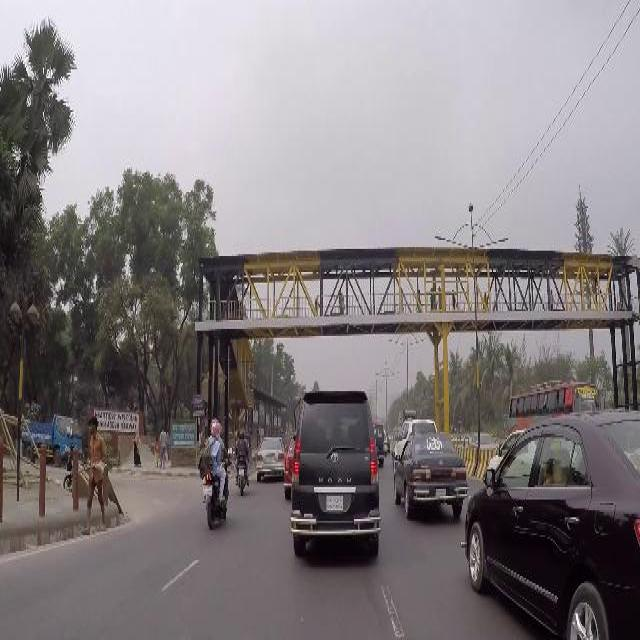bus: (506, 370, 600, 430)
car: (460, 403, 638, 639), (394, 432, 468, 528), (484, 423, 550, 487), (254, 430, 284, 478), (278, 432, 298, 496)
minivan: (292, 389, 382, 560)
motorbike: (194, 459, 233, 537), (236, 452, 250, 497)
pickup: (21, 410, 89, 474)
suv: (394, 414, 442, 460)
